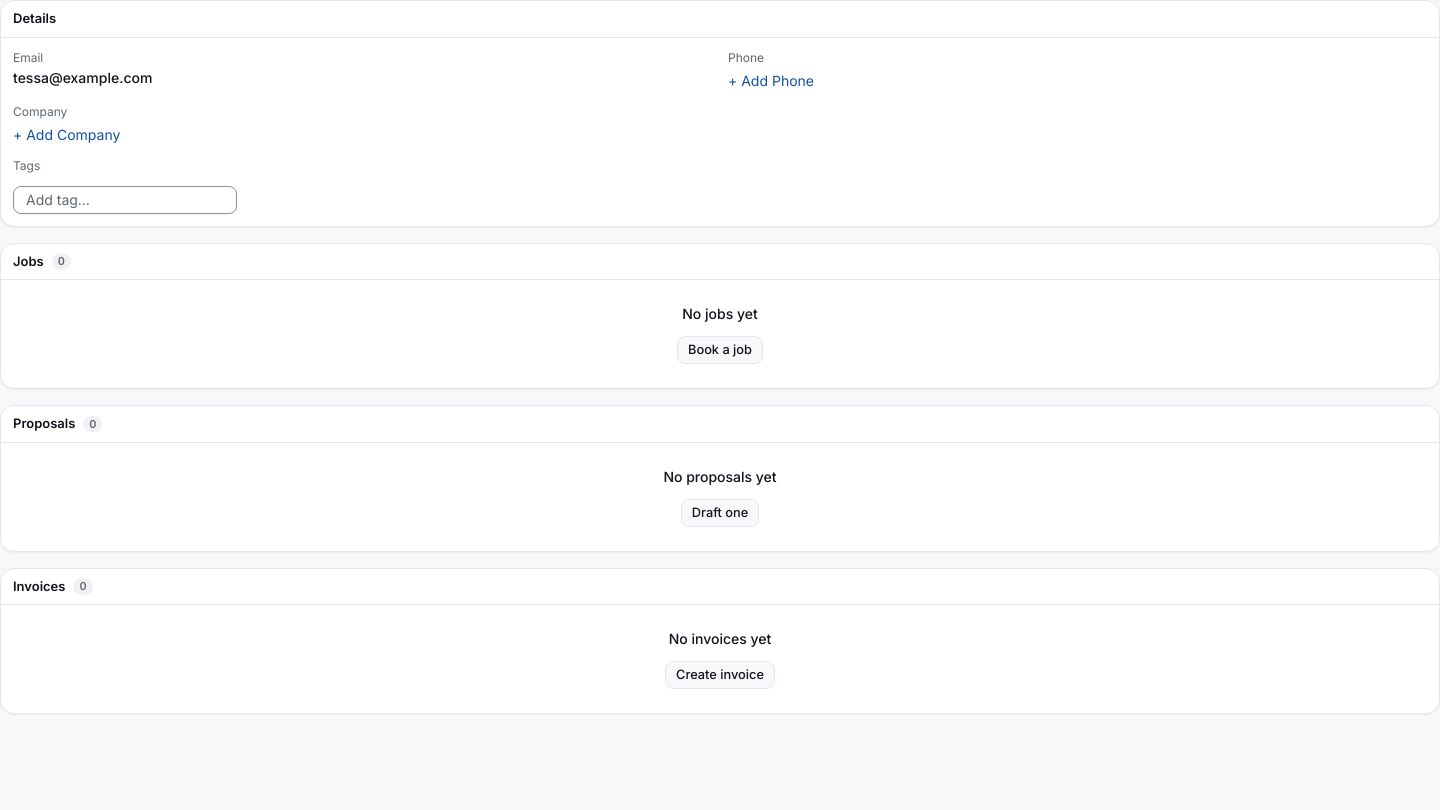
ClientWorkingRail › blocks an invalid email and does not save, keeping the draft
Click the button "tessa@example.com" at (83, 78), box [13, 68, 152, 88]
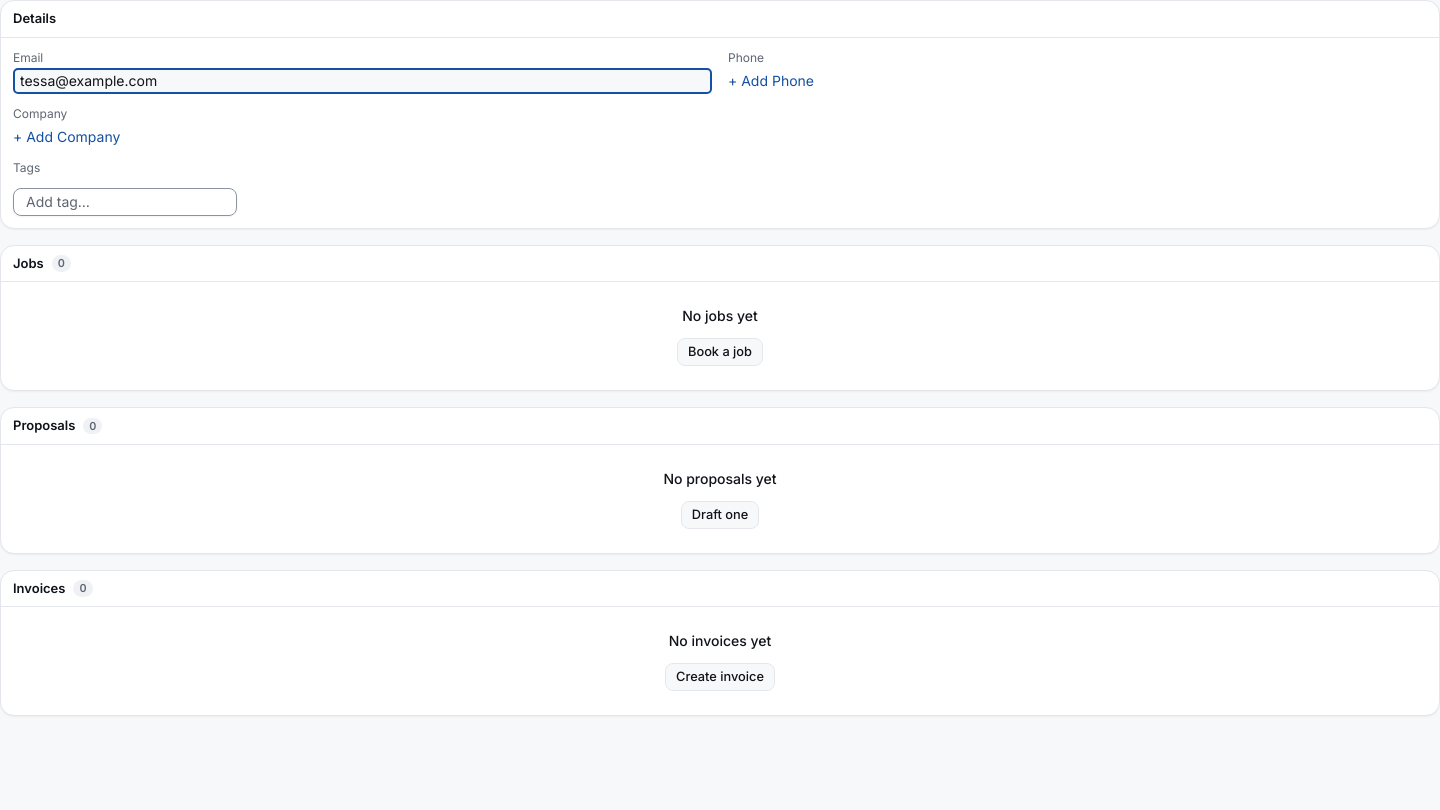
Replace the text in the field named "Email" with "not-an-email" at (362, 80), box [13, 68, 712, 94]
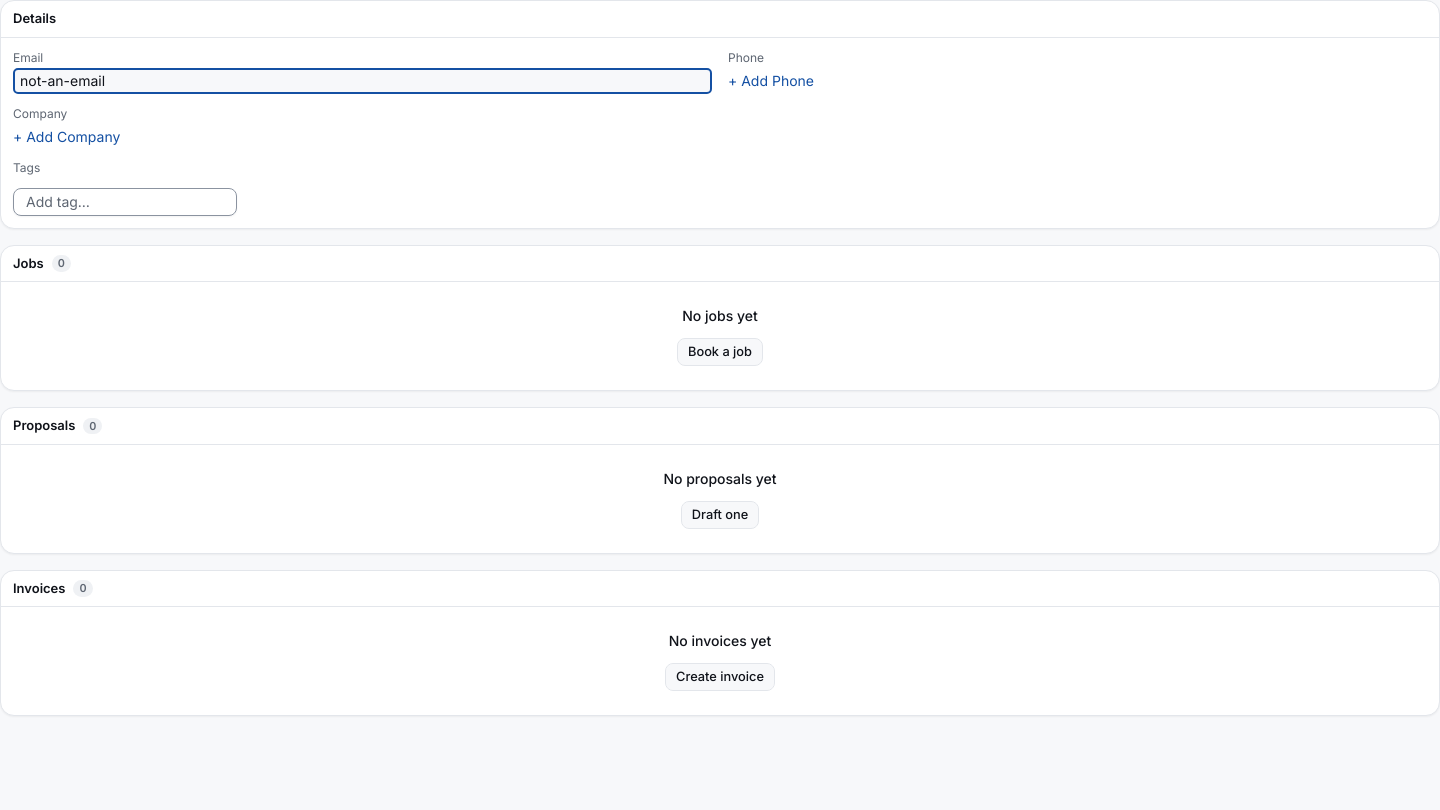
Press Enter in the field named "Email", box [13, 68, 712, 94]
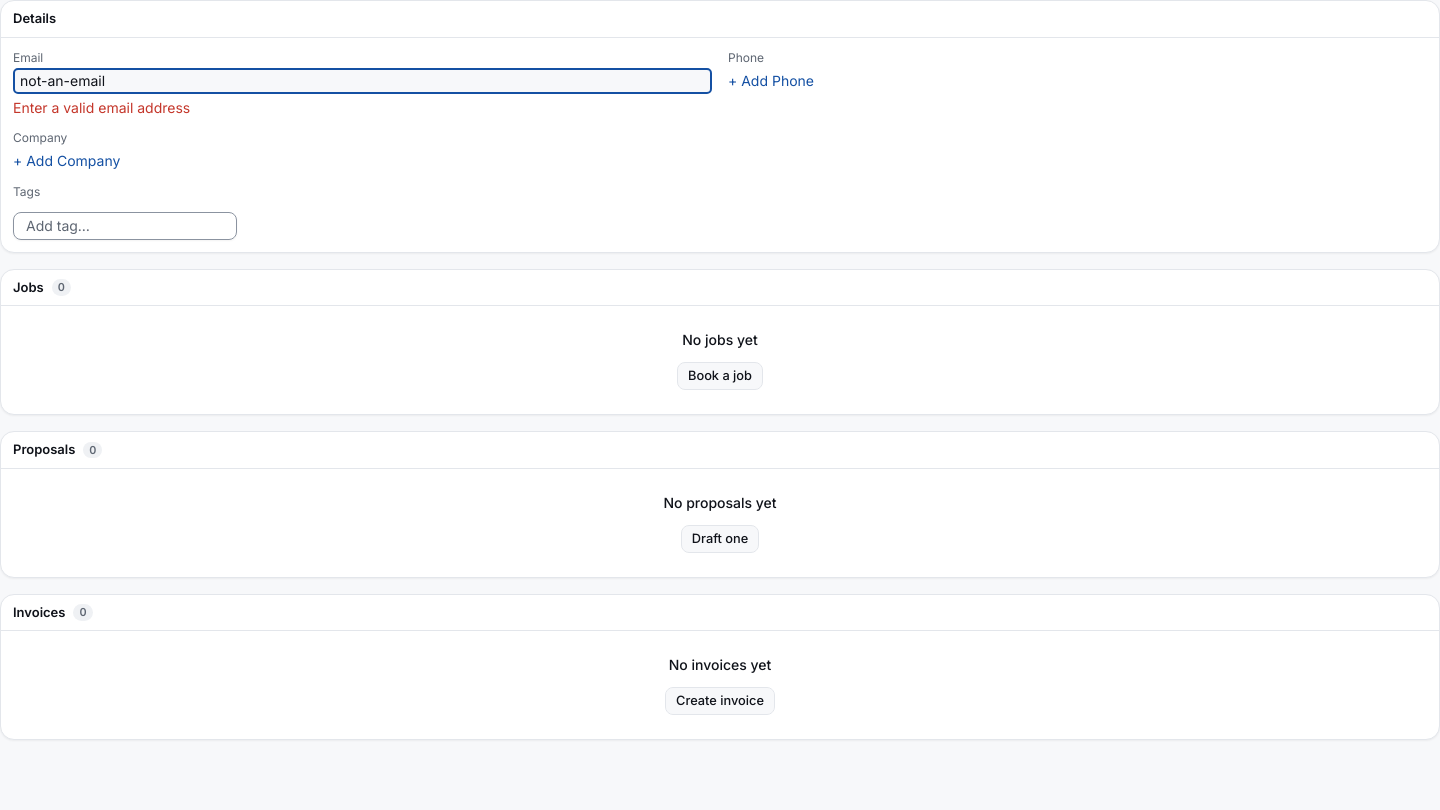
Now the message "Enter a valid email address" is shown, box [13, 98, 190, 116]
